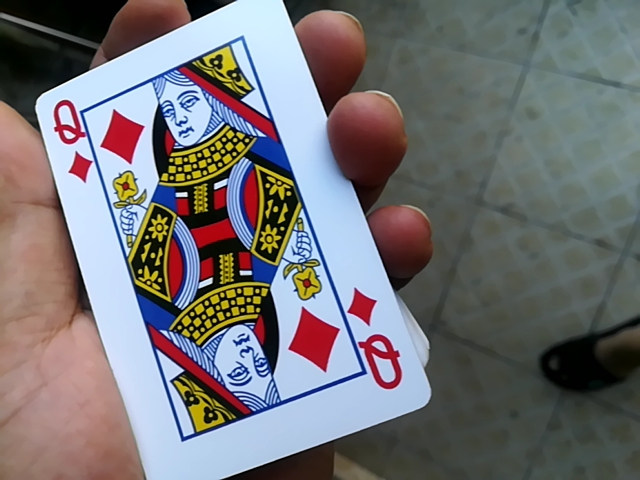fk q: (24, 5, 431, 480)
